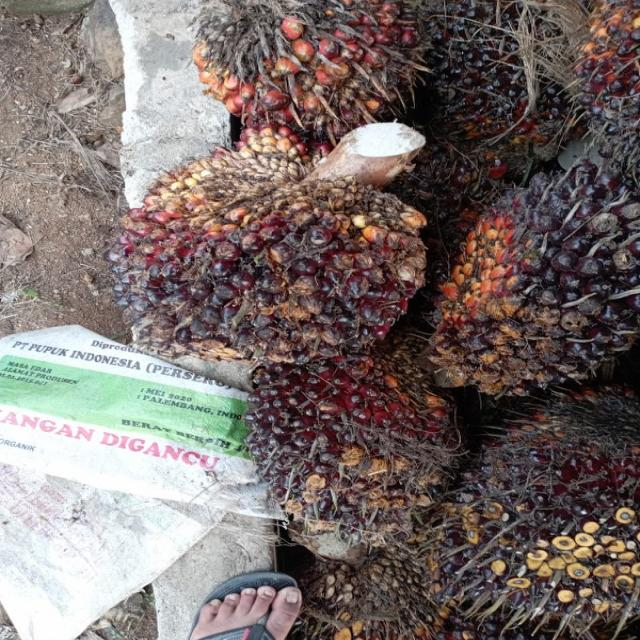fraksi 1: (168, 328, 520, 573)
